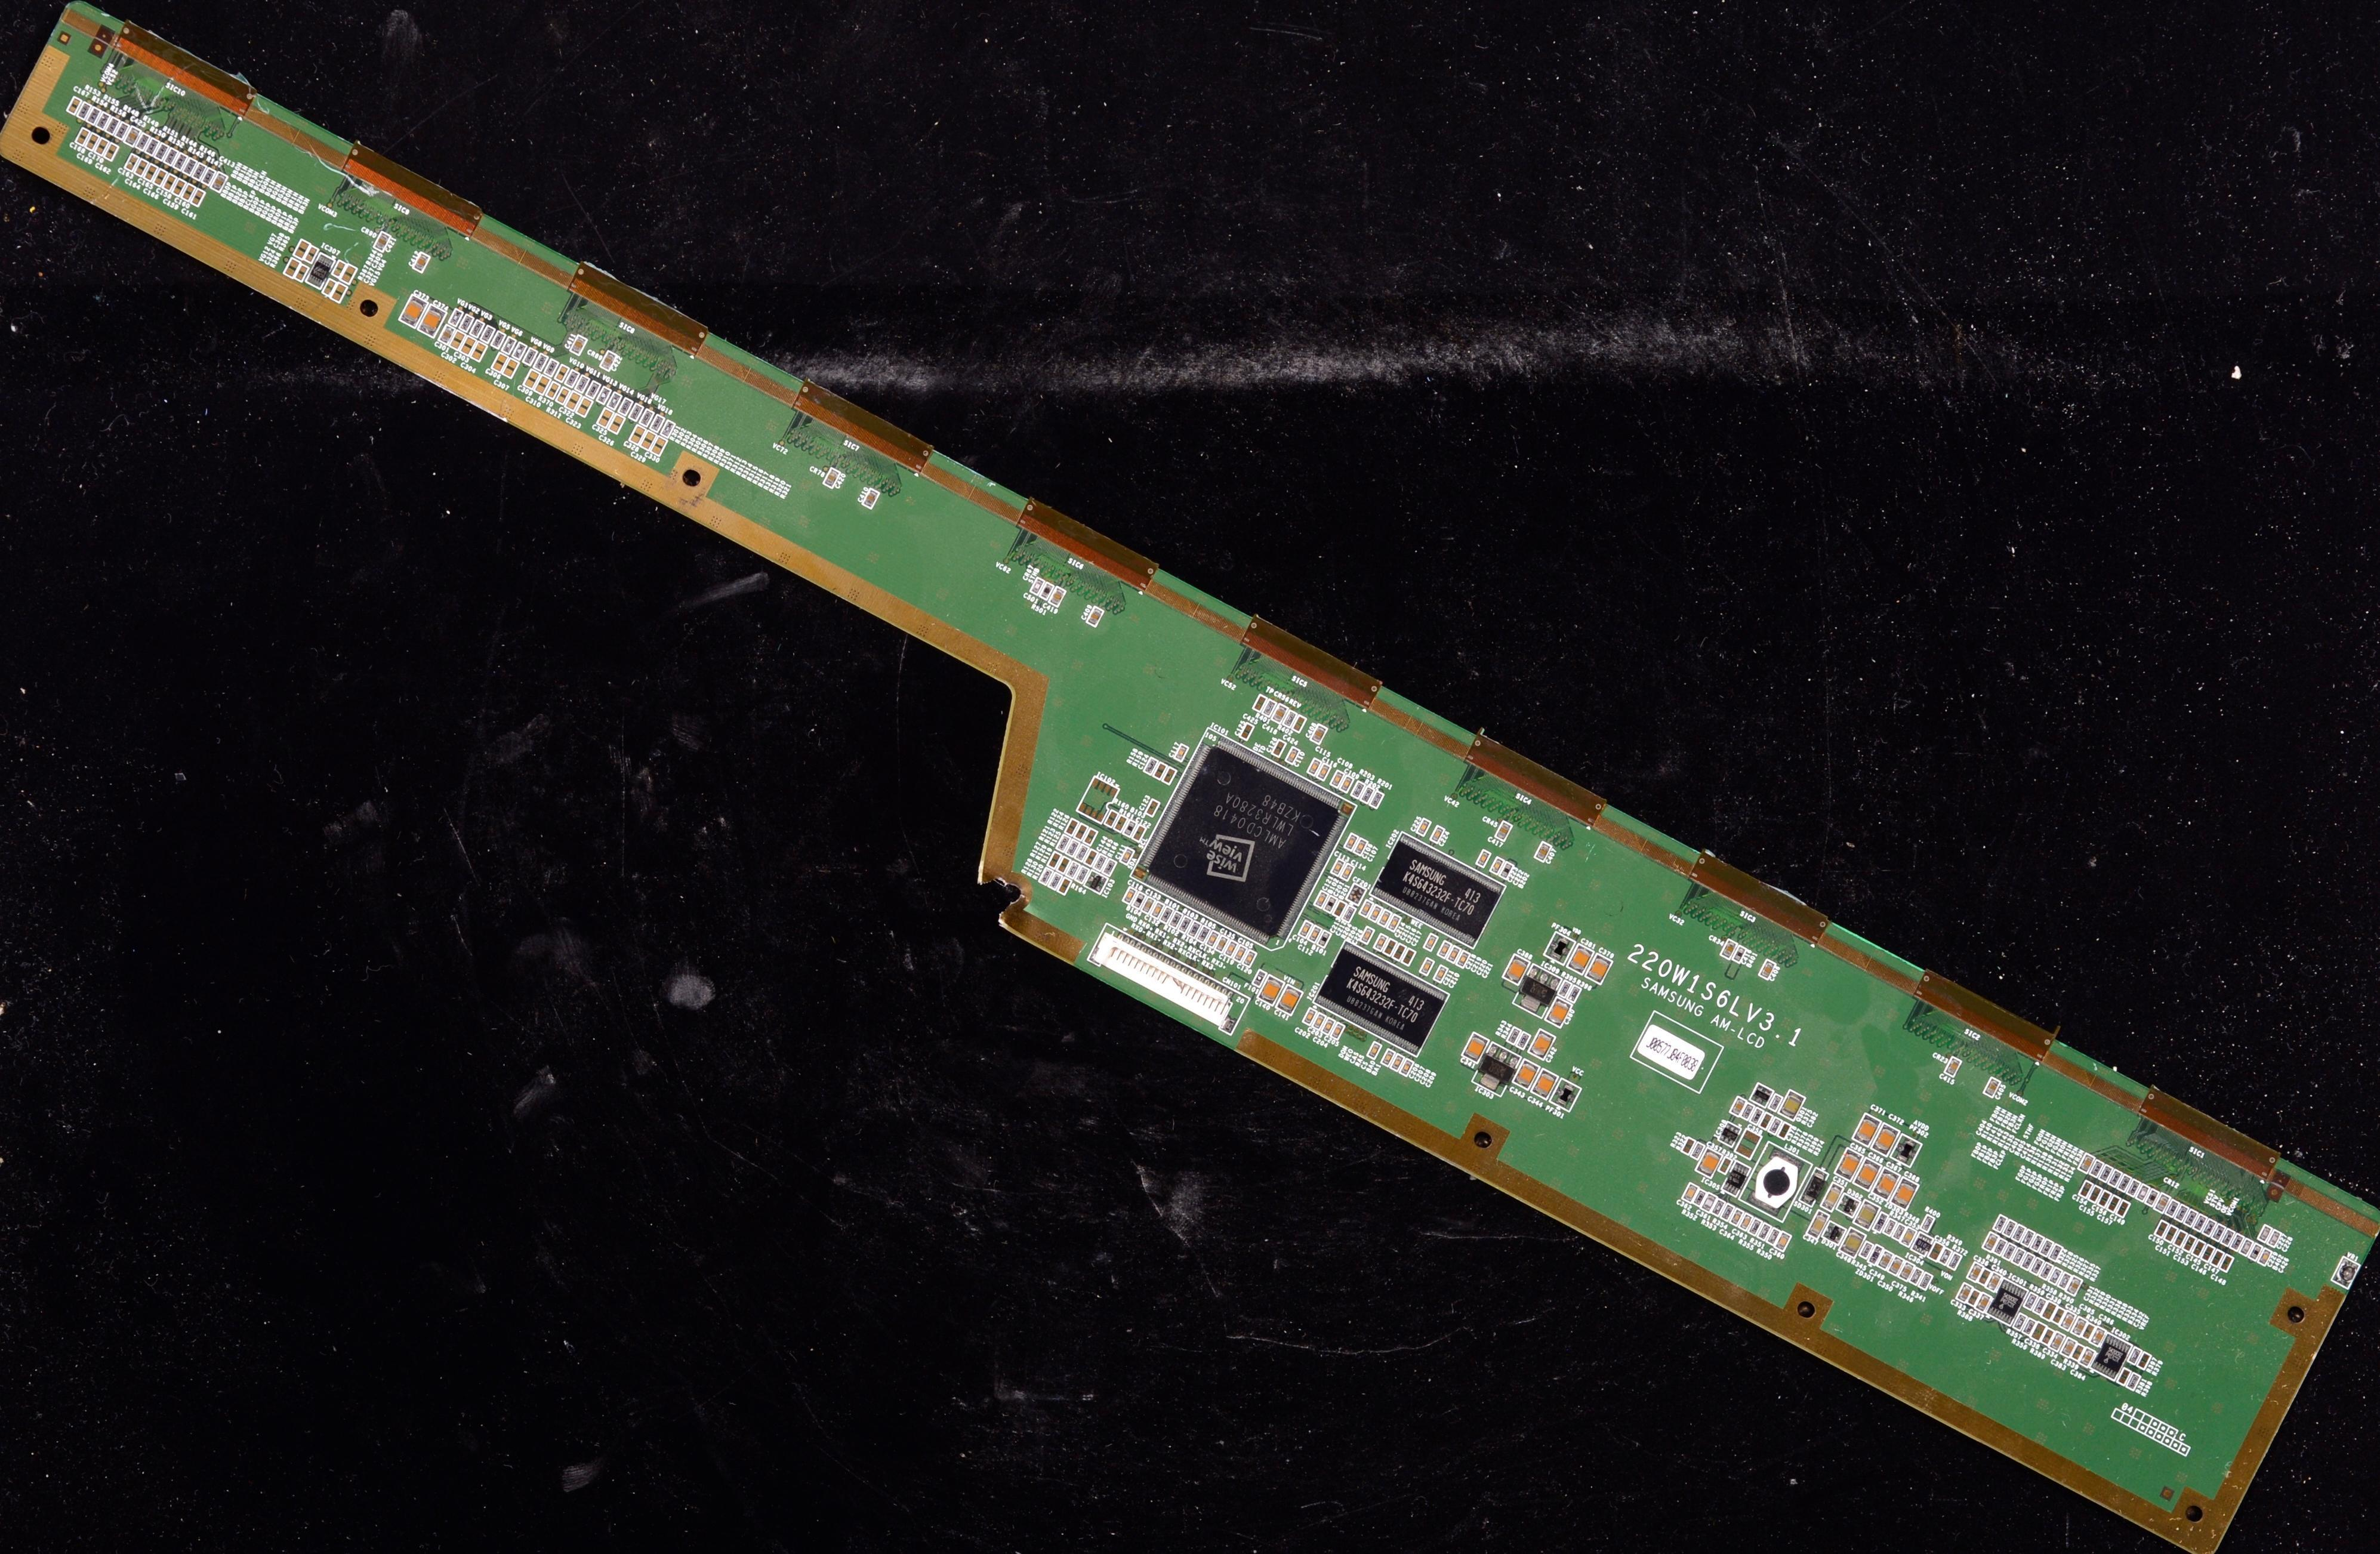Capacitor: (1530, 1067, 1568, 1104), (1513, 1054, 1548, 1097), (1833, 1146, 1871, 1183), (399, 287, 432, 329), (1870, 1120, 1909, 1154), (1567, 941, 1603, 976), (1851, 1110, 1886, 1146), (417, 301, 449, 340), (1891, 1176, 1931, 1208), (1857, 1158, 1889, 1194), (1460, 1031, 1494, 1064), (1838, 1228, 1873, 1262), (1733, 1127, 1765, 1160), (1585, 949, 1613, 987), (1076, 603, 1115, 630), (1545, 997, 1578, 1028), (1875, 1167, 1909, 1199), (1274, 982, 1304, 1017), (1853, 1201, 1887, 1230), (1503, 952, 1533, 986), (1801, 1216, 1839, 1241), (1818, 1182, 1849, 1210), (1526, 839, 1560, 867), (1781, 1088, 1811, 1117), (1697, 1148, 1727, 1177), (1256, 976, 1287, 1004), (597, 346, 628, 372), (1531, 1029, 1561, 1057), (565, 325, 592, 355), (413, 239, 433, 277), (1047, 585, 1073, 613), (859, 486, 887, 511), (1713, 941, 1743, 962), (371, 225, 394, 254), (1676, 1181, 1701, 1207), (1492, 822, 1519, 844), (1762, 955, 1784, 983), (1021, 577, 1049, 598), (2074, 1152, 2100, 1174), (156, 172, 182, 194), (458, 332, 480, 357), (592, 407, 617, 431), (1926, 1238, 1947, 1266), (1242, 949, 1267, 972), (1980, 1229, 2004, 1253), (1775, 1232, 1798, 1255), (519, 368, 541, 391), (1308, 723, 1333, 744), (1469, 848, 1496, 869), (1986, 1269, 2006, 1295), (573, 398, 599, 420), (819, 469, 845, 489), (1306, 725, 1334, 745), (2063, 1278, 2091, 1298), (2076, 1352, 2104, 1370), (98, 141, 122, 163), (608, 412, 630, 435), (1270, 706, 1294, 726), (1727, 1095, 1749, 1118), (1966, 1260, 1990, 1281), (1877, 1251, 1897, 1276), (1291, 713, 1311, 735), (328, 279, 351, 301), (545, 378, 565, 400), (1365, 1040, 1385, 1063), (1358, 923, 1380, 944), (2197, 1244, 2218, 1264), (72, 128, 93, 149), (125, 150, 140, 176), (341, 263, 360, 285), (503, 354, 519, 381), (1171, 742, 1193, 762), (1142, 800, 1164, 818), (1889, 1255, 1908, 1279), (1954, 1285, 1975, 1305), (2087, 1328, 2109, 1348), (2059, 1336, 2077, 1359), (129, 159, 152, 178), (190, 187, 214, 207), (291, 237, 310, 260), (437, 323, 456, 346), (448, 327, 467, 350), (624, 427, 648, 445), (650, 438, 673, 457), (1898, 1228, 1922, 1245), (2256, 1250, 2279, 1268), (125, 124, 142, 147), (470, 341, 488, 364), (560, 394, 584, 412), (211, 168, 227, 194), (168, 182, 195, 198), (1240, 721, 1259, 742), (1329, 1024, 1349, 1043), (1700, 1196, 1721, 1215), (2115, 1201, 2134, 1220), (2153, 1222, 2172, 1243), (2171, 1231, 2189, 1253), (2181, 1235, 2200, 1255), (1900, 1261, 1918, 1281), (2061, 1311, 2080, 1332), (2070, 1319, 2089, 1339), (2030, 1324, 2050, 1342), (94, 136, 113, 157), (279, 257, 298, 278), (638, 433, 659, 452), (1429, 827, 1452, 844), (1422, 932, 1440, 954), (1455, 951, 1478, 968), (1414, 959, 1437, 976), (2083, 1188, 2105, 1206), (2095, 1192, 2117, 1210), (2153, 1195, 2175, 1213), (536, 371, 549, 398), (1445, 945, 1463, 964), (2161, 1226, 2181, 1245), (1268, 741, 1288, 758), (1285, 748, 1306, 766), (1340, 776, 1359, 793), (1435, 942, 1456, 958), (1432, 966, 1454, 983), (1312, 1012, 1330, 1031), (1379, 1047, 1397, 1068), (2077, 1182, 2097, 1200), (1731, 1208, 1748, 1228), (2266, 1229, 2286, 1247), (2041, 1302, 2062, 1319), (140, 165, 161, 182), (146, 171, 171, 186), (491, 351, 509, 372), (554, 364, 574, 382), (553, 388, 574, 405), (1118, 889, 1140, 905), (1308, 922, 1324, 945), (2206, 1251, 2228, 1268), (2217, 1257, 2240, 1273), (179, 185, 201, 201), (1162, 768, 1182, 785), (1328, 770, 1346, 789), (1327, 859, 1345, 878), (1204, 932, 1223, 949), (1232, 945, 1251, 962), (1305, 1008, 1322, 1026), (1401, 1060, 1419, 1077), (1977, 1296, 1995, 1313), (1374, 934, 1390, 953), (88, 125, 99, 156), (1343, 833, 1359, 849), (1360, 899, 1377, 915), (2107, 1197, 2123, 1213), (2048, 1333, 2067, 1351), (1252, 695, 1269, 714), (1316, 763, 1333, 783), (1414, 818, 1433, 834), (1388, 916, 1404, 935), (1223, 941, 1241, 958), (2259, 1224, 2277, 1244), (1352, 840, 1373, 854), (1340, 864, 1359, 878), (68, 95, 82, 117), (1307, 759, 1322, 778), (1132, 826, 1149, 841), (1141, 896, 1157, 914), (1151, 903, 1166, 921), (1214, 938, 1231, 954), (1322, 1020, 1339, 1035), (1390, 1056, 1407, 1072), (1738, 1216, 1756, 1231), (2190, 1241, 2208, 1258), (1314, 890, 1329, 908), (1297, 918, 1311, 939), (2237, 1241, 2256, 1254), (1368, 905, 1384, 921), (1086, 850, 1100, 867), (1379, 912, 1394, 926)
IC: (1116, 734, 1363, 954), (1369, 818, 1510, 954), (1305, 945, 1456, 1052), (2083, 1330, 2143, 1381), (1984, 1274, 2035, 1324), (1515, 967, 1559, 1023), (1078, 773, 1116, 822), (304, 249, 341, 291), (1721, 1160, 1757, 1195), (1713, 1120, 1749, 1146), (1904, 1232, 1935, 1260)
Resistor: (446, 303, 470, 328), (1946, 1250, 1969, 1274), (467, 318, 491, 341), (477, 322, 501, 344), (499, 331, 523, 355), (1030, 864, 1052, 887), (1762, 1228, 1785, 1250), (1936, 1248, 1960, 1268), (1910, 1265, 1930, 1288), (2125, 1346, 2150, 1367), (488, 329, 512, 350), (1915, 1275, 1941, 1294), (2110, 1175, 2137, 1194), (1715, 1205, 1741, 1223), (1348, 779, 1368, 801), (1918, 1211, 1941, 1231), (510, 340, 532, 360), (1368, 790, 1393, 808), (1553, 980, 1577, 1000), (1679, 1134, 1698, 1159), (2093, 1164, 2119, 1183), (2025, 1259, 2048, 1279), (1685, 1191, 1712, 1210), (1156, 906, 1176, 926), (1516, 1030, 1536, 1050), (2051, 1305, 2071, 1325), (2137, 1352, 2159, 1373), (520, 347, 541, 367), (573, 375, 594, 396), (606, 391, 626, 411), (649, 414, 670, 434), (2030, 1232, 2049, 1254), (2045, 1244, 2068, 1263), (1037, 582, 1060, 601), (2084, 1160, 2108, 1178), (1707, 1200, 1731, 1217), (143, 140, 167, 158), (1342, 905, 1362, 924), (1379, 939, 1400, 958), (1754, 1225, 1775, 1243), (2019, 1228, 2039, 1248), (2038, 1237, 2060, 1255), (1856, 1241, 1877, 1260), (103, 117, 125, 135), (2020, 1293, 2041, 1312), (532, 353, 552, 372), (595, 387, 616, 406), (629, 404, 649, 425), (639, 409, 659, 429), (1194, 927, 1217, 943), (1501, 1029, 1522, 1046), (1774, 1121, 1796, 1139), (2141, 1190, 2164, 1207), (2190, 1216, 2212, 1234), (457, 315, 479, 332), (1766, 1094, 1790, 1111), (2181, 1211, 2205, 1226), (1139, 754, 1160, 774), (1072, 866, 1091, 884), (1056, 879, 1076, 898), (1689, 1143, 1708, 1163), (2002, 1217, 2021, 1237), (2020, 1319, 2040, 1339), (172, 153, 190, 172), (541, 360, 561, 378), (1061, 821, 1082, 837), (1331, 902, 1351, 919), (1168, 911, 1188, 929), (1399, 949, 1422, 966), (94, 113, 114, 129), (2229, 1234, 2249, 1251), (2070, 1346, 2090, 1362), (586, 381, 603, 402), (660, 419, 679, 437), (300, 246, 323, 262), (1046, 874, 1065, 892), (1177, 917, 1195, 935), (1187, 921, 1206, 938), (75, 101, 93, 119), (1768, 1119, 1786, 1137), (2104, 1170, 2124, 1186), (1990, 1216, 2009, 1234), (1744, 1220, 1765, 1238), (2010, 1223, 2027, 1242), (1991, 1237, 2010, 1254), (2033, 1297, 2052, 1315), (113, 123, 132, 141), (2040, 1328, 2057, 1348), (330, 260, 349, 277), (293, 266, 313, 283), (619, 398, 637, 417), (1083, 831, 1103, 846), (1564, 988, 1586, 1002), (2200, 1219, 2220, 1234), (2018, 1255, 2037, 1271), (2044, 1270, 2064, 1285), (180, 159, 202, 174), (1361, 785, 1379, 804), (1074, 847, 1091, 863), (1046, 853, 1063, 871), (1322, 896, 1340, 914), (2011, 1249, 2028, 1266), (135, 133, 153, 151), (1073, 824, 1090, 842), (1101, 861, 1121, 877), (2125, 1180, 2144, 1196), (2133, 1186, 2152, 1201), (2211, 1226, 2229, 1241), (2009, 1316, 2028, 1331), (2083, 1321, 2098, 1340), (152, 145, 172, 162), (564, 371, 584, 387), (2172, 1206, 2193, 1219), (2218, 1231, 2239, 1245), (2057, 1271, 2072, 1291), (1054, 836, 1071, 852), (1741, 1104, 1759, 1120), (1749, 1110, 1766, 1125), (87, 106, 103, 124), (2002, 1243, 2020, 1260), (2116, 1368, 2134, 1383), (163, 149, 181, 165), (192, 162, 208, 181), (1390, 945, 1408, 960), (199, 169, 219, 184), (1154, 763, 1170, 779), (2039, 1264, 2055, 1279), (1064, 842, 1081, 856), (2163, 1201, 2181, 1216), (2126, 1376, 2144, 1389), (1093, 856, 1109, 871), (1056, 858, 1071, 874), (1065, 861, 1080, 877), (1760, 1115, 1774, 1130), (322, 281, 337, 294)
